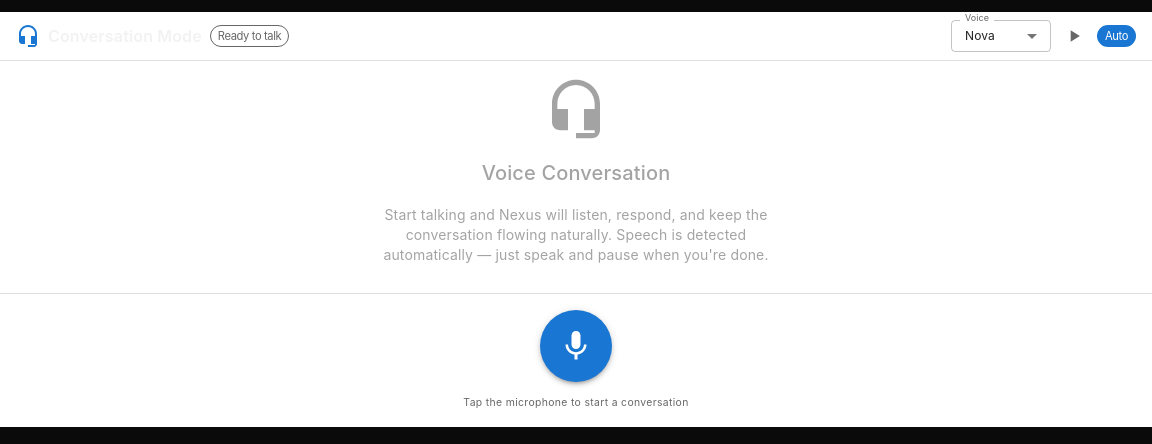
it: ConversationMode — Interrupt / Barge-in › hint text shows 'Start speaking to interrupt' during thinking/speaking
Click the button with test id "MicIcon" at [576, 346], box [540,310,612,382]
Wait 2100 ms
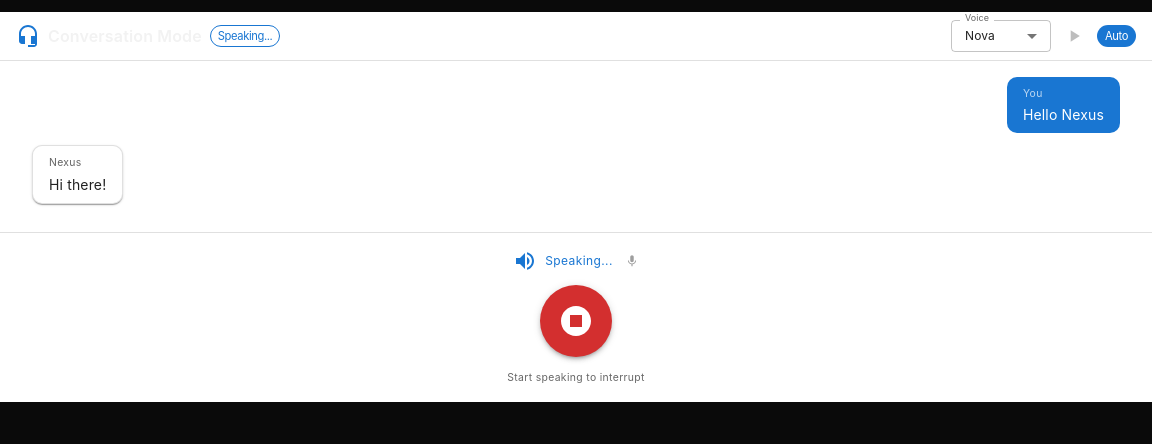
Expected: the text "Speaking..." next to "Conversation Mode" is shown, [218,29,272,43]
Expected: the text "Start speaking to interrupt" is shown, [507,368,645,386]
